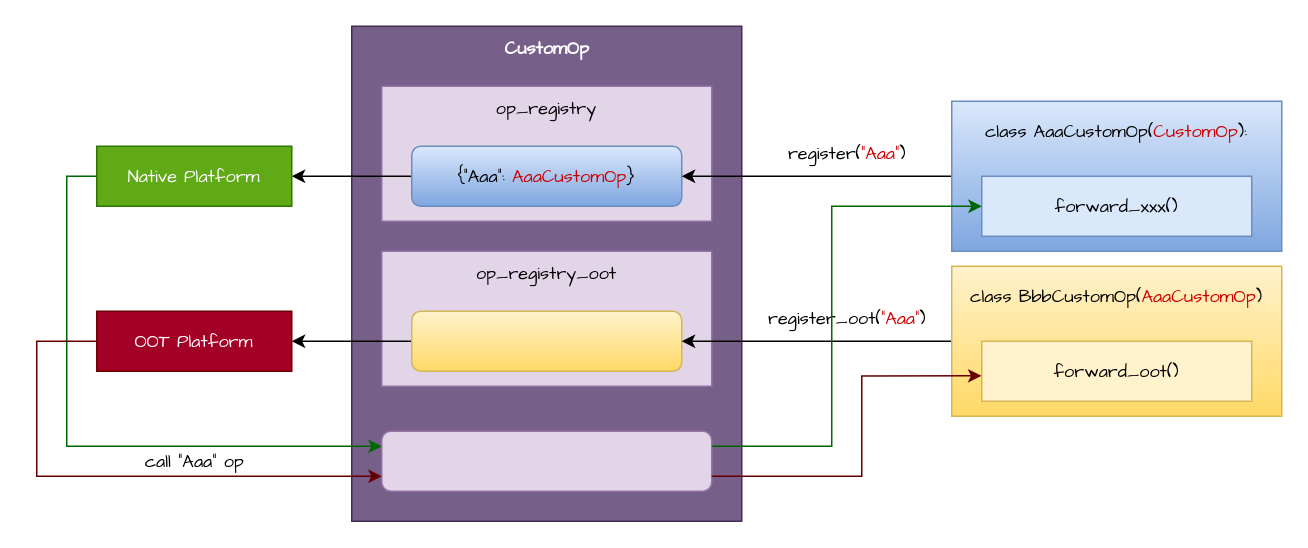
Image size: 1308x548. Some labels were removed from this diagram. The centre of each missing label's shape, as x and y in pixels:
dispatch_forward(): point 546,460
{"Aaa": BbbCustomOp }: point 546,340
